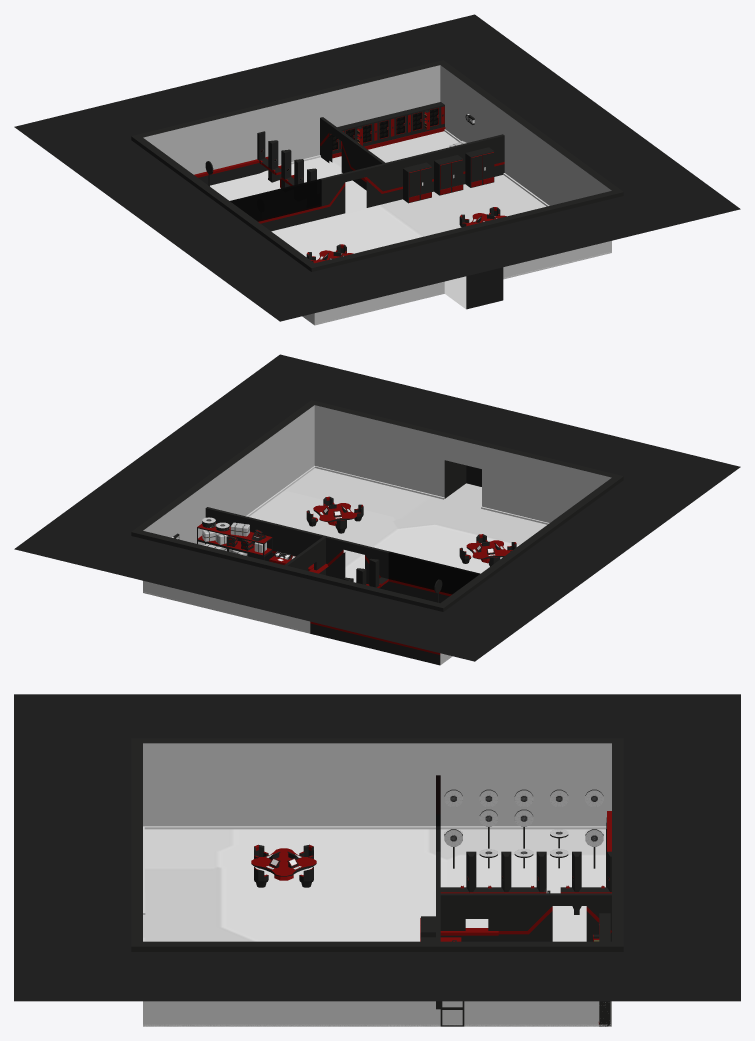
The model's file is Armory_Room.fbx.
The picture shows the model from 3 angles, top to bottom: view 1: azimuth 30°, elevation 25°; view 2: azimuth 150°, elevation 25°; view 3: azimuth 270°, elevation 25°; orthographic projection. The views are drawn at different scales.
Parts seen in each view (by area): view 1: Room_1x1x1.001; view 2: Room_1x1x1.001; view 3: Room_1x1x1.001.
Boxes of the visible parts, x1,y1,x2,y2 form: Room_1x1x1.001: [14, 14, 740, 325]; Room_1x1x1.001: [14, 354, 740, 665]; Room_1x1x1.001: [14, 694, 740, 1026].
Bounding box in the file's own units: 62 × 62 × 8.01.
